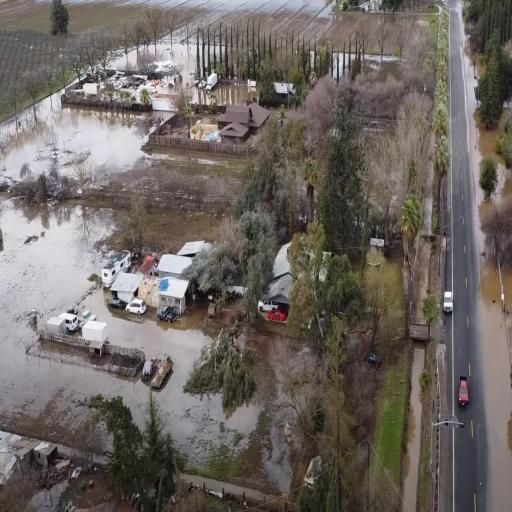flood: (0, 193, 261, 465), (456, 0, 512, 255), (0, 105, 151, 180), (480, 264, 512, 511), (128, 38, 195, 75), (192, 80, 258, 105), (504, 269, 512, 340), (108, 53, 126, 70)
house: (0, 425, 59, 504), (216, 98, 272, 148), (264, 242, 292, 305), (107, 271, 149, 313), (156, 275, 192, 321), (82, 316, 110, 356), (273, 82, 297, 103)
